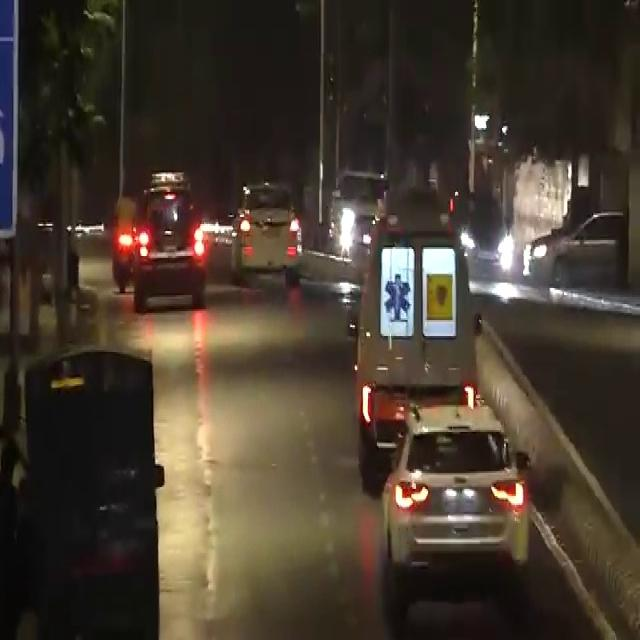ambulance: (359, 212, 462, 438)
